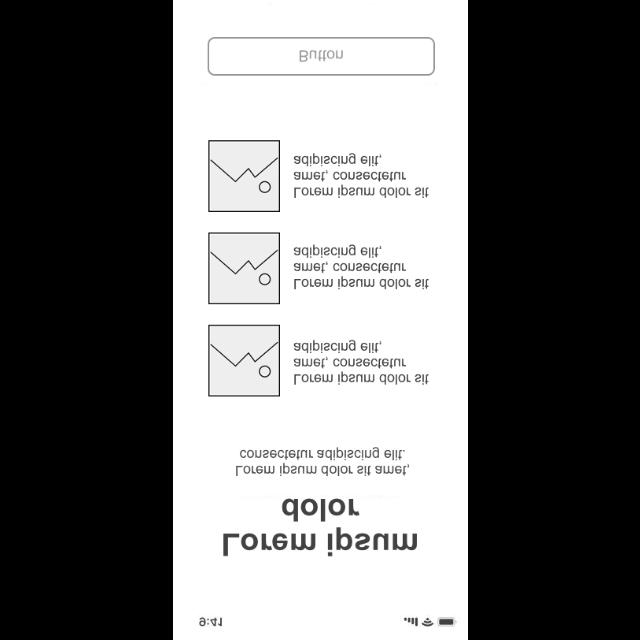image: (208, 324, 280, 396), (208, 232, 280, 304), (208, 140, 280, 212)
text: (223, 498, 417, 556), (293, 339, 429, 386), (293, 244, 429, 290), (293, 152, 429, 198), (235, 446, 409, 476)
textbutton: (208, 36, 434, 76)
uppertaskbar: (198, 616, 458, 626)
